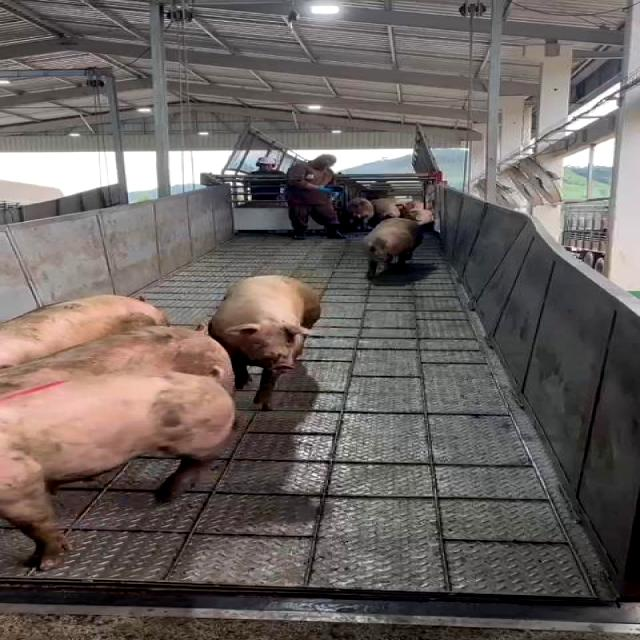pig: (1, 372, 234, 568), (209, 276, 320, 409), (3, 326, 230, 386), (1, 295, 164, 365), (365, 219, 421, 276)
